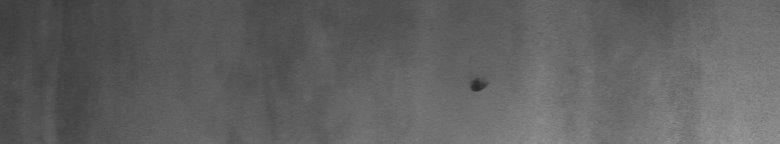fi: (464, 72, 490, 100)
